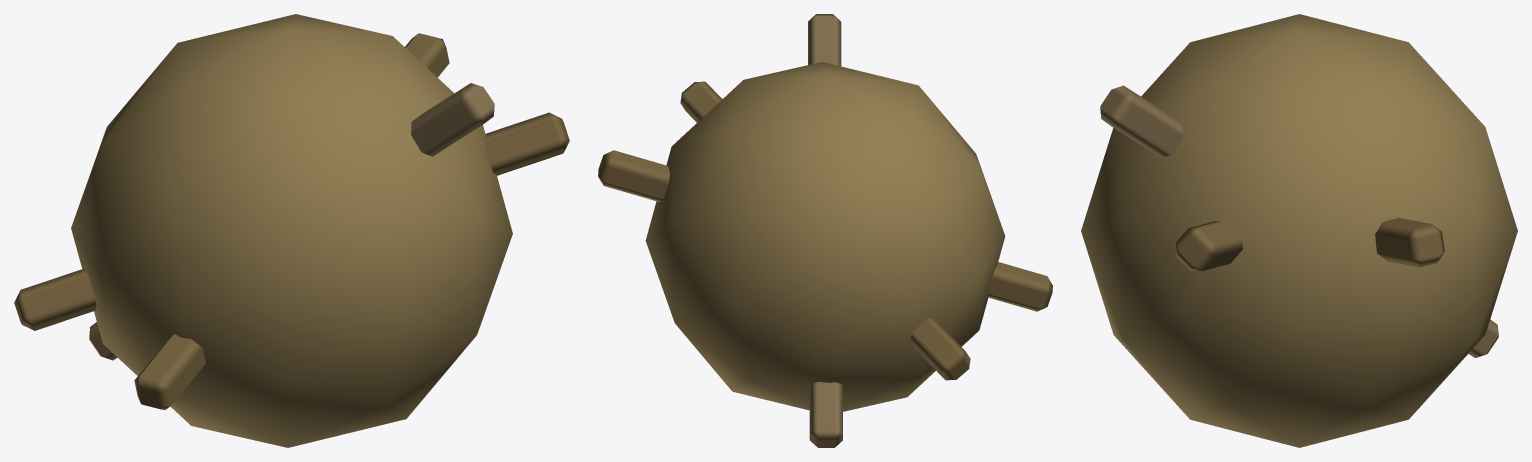
The model's file is tumbleweed.59bff099.glb.
The picture shows the model from 3 angles, left to right: view 1: azimuth 30°, elevation 25°; view 2: azimuth 150°, elevation 25°; view 3: azimuth 270°, elevation 25°; orthographic projection. The views are drawn at different scales.
Visible parts, largest first — view 1: body; view 2: body; view 3: body.
Part boxes in pixels (x1,y1,x2,y2): body: (14, 14, 569, 447); body: (598, 14, 1052, 447); body: (1081, 14, 1517, 447).
Size of the model in its own units: 0.1521 by 0.13 by 0.13.
